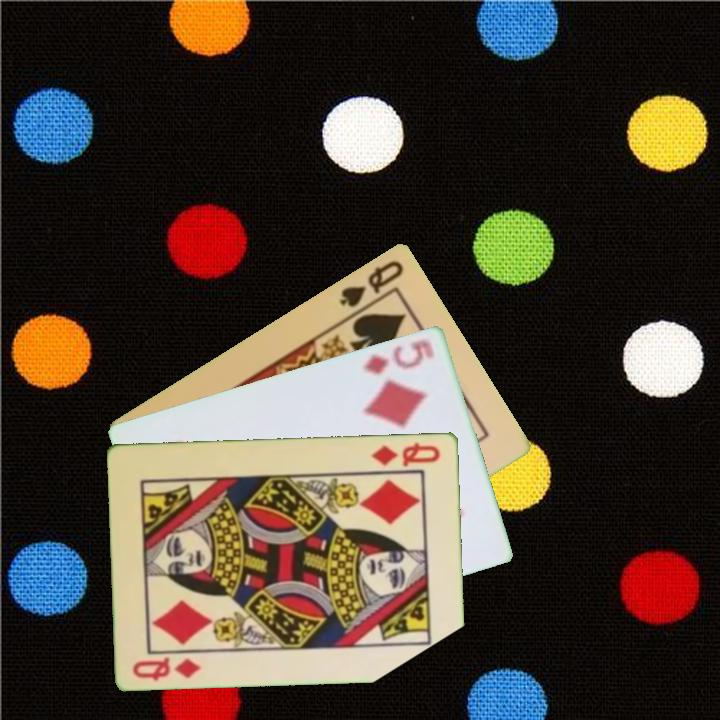5d: (359, 339, 438, 377)
Qd: (368, 438, 443, 469), (129, 653, 204, 683)
Qs: (336, 256, 407, 310)
